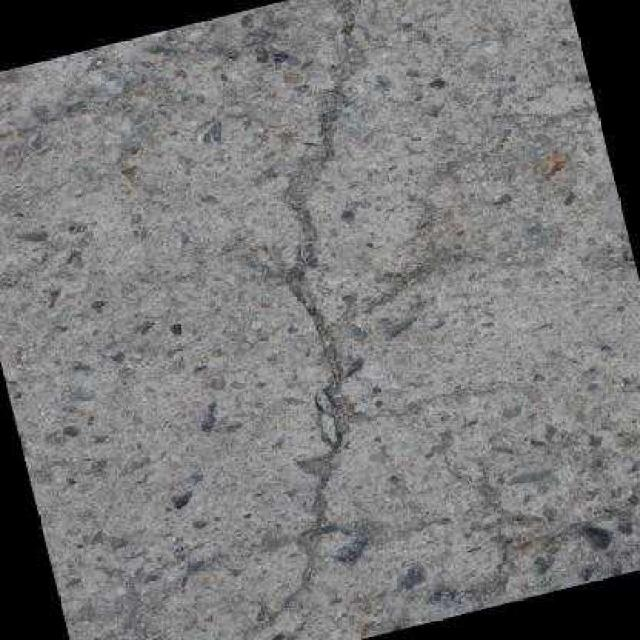D00: (245, 26, 371, 640)
